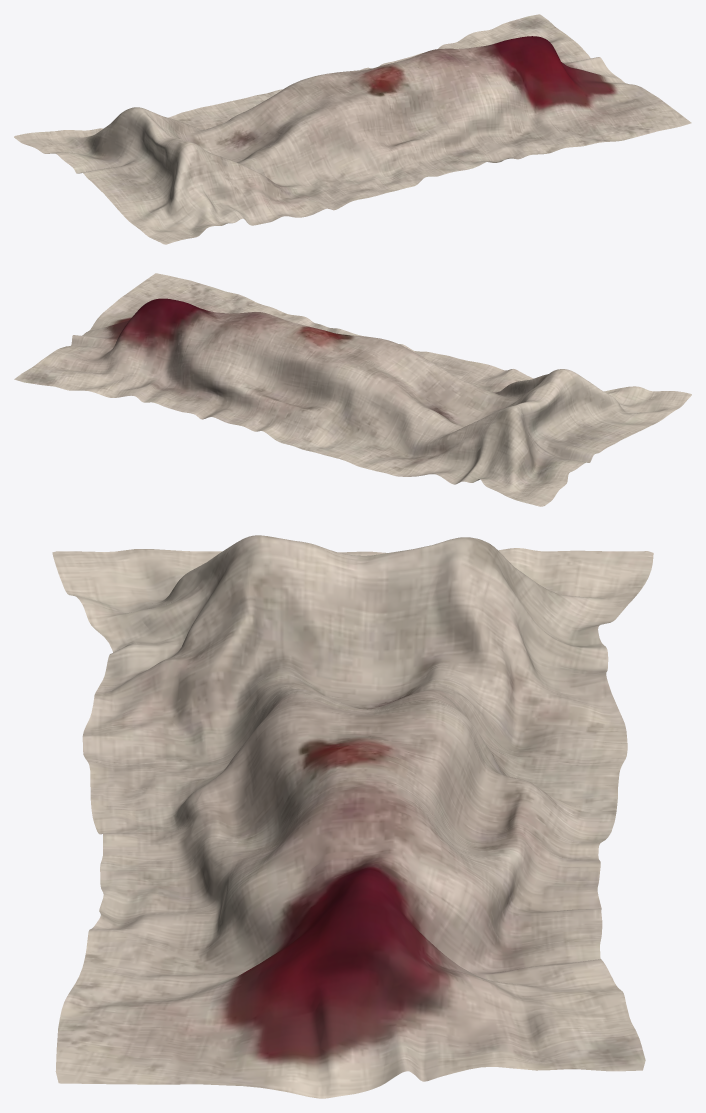
File: body_under_cloth.glb
3 views of the same model, one above another, from view 1: azimuth 30°, elevation 25°; view 2: azimuth 150°, elevation 25°; view 3: azimuth 270°, elevation 25° (orthographic). The views are drawn at different scales.
Visible parts, largest first — view 1: Object_2; view 2: Object_2; view 3: Object_2.
Part boxes in pixels (x1,y1,x2,y2): Object_2: [14, 14, 691, 244]; Object_2: [14, 273, 691, 506]; Object_2: [52, 535, 653, 1098].
Bounding box in the file's own units: 382 × 43.42 × 187.
1 material, 1 textured.
